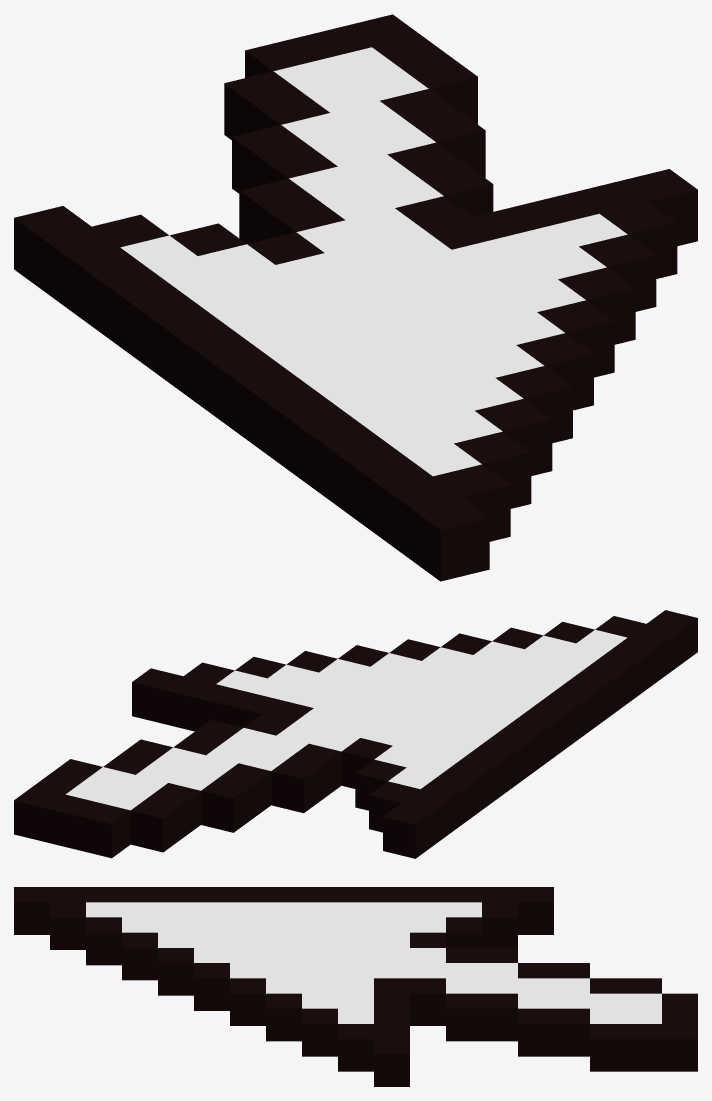
Rendered from cursor.obj.
3 renders of one model, top to bottom at view 1: azimuth 30°, elevation 25°; view 2: azimuth 150°, elevation 25°; view 3: azimuth 270°, elevation 25°, orthographic. The views are drawn at different scales.
Bounding box in the file's own units: 11 × 1 × 19.
Materials: 1 (1 with a texture image).
